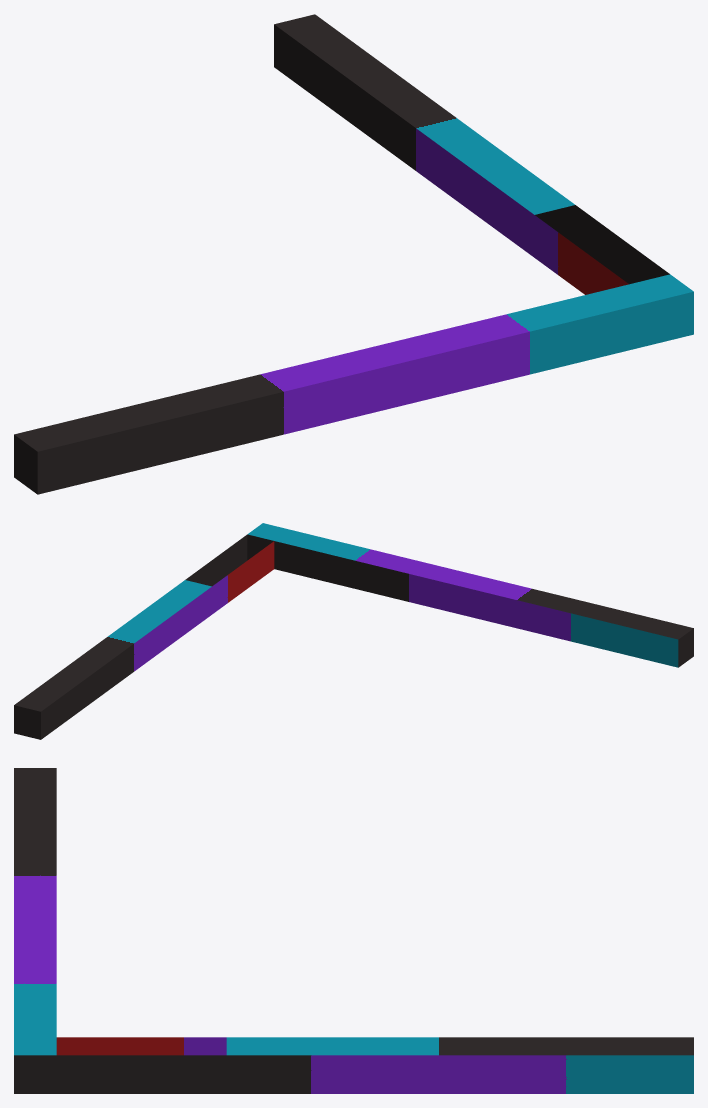
The picture shows the model from 3 angles, top to bottom: view 1: azimuth 30°, elevation 25°; view 2: azimuth 150°, elevation 25°; view 3: azimuth 270°, elevation 25°; orthographic projection. The views are drawn at different scales.
Parts seen in each view (by area): view 1: Wall1; view 2: Wall1; view 3: Wall1.
Boxes of the visible parts, x1,y1,x2,y2 form: Wall1: [14, 14, 693, 494]; Wall1: [14, 523, 693, 739]; Wall1: [14, 768, 693, 1093].
Size of the model in its own units: 1 by 0.0625 by 1.
